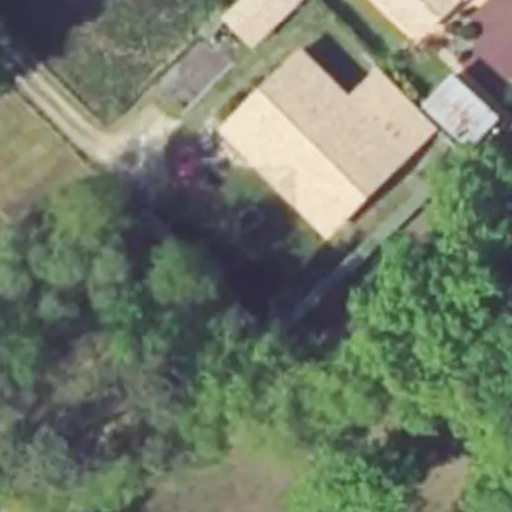pool: (169, 151, 319, 287)
